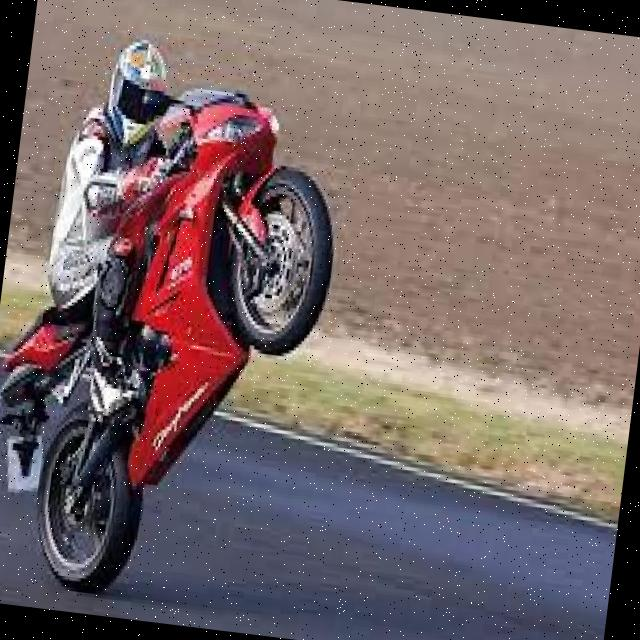Wheeling: (2, 28, 348, 612)
